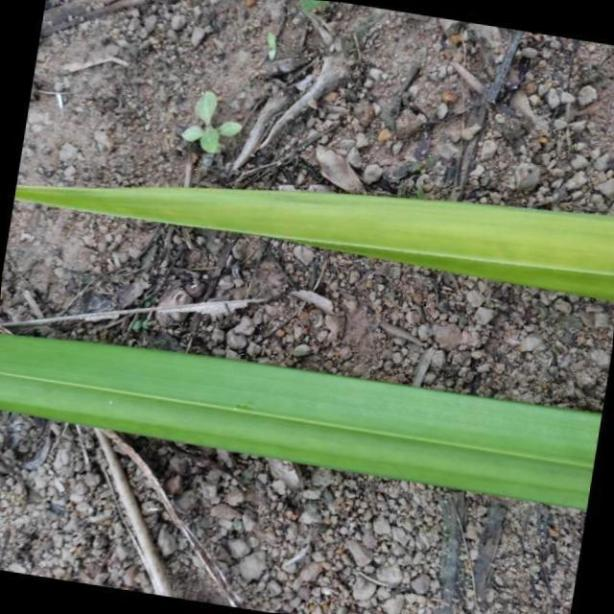nitrogen: (0, 328, 603, 518), (14, 173, 614, 297)
